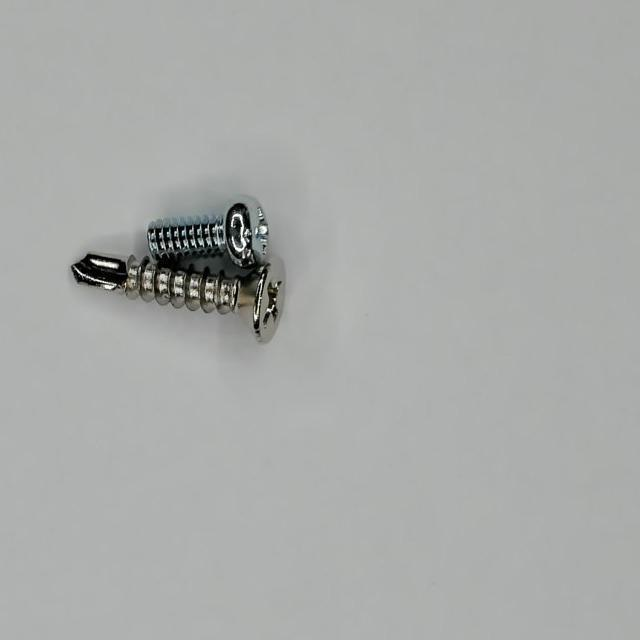Screw: (110, 257, 286, 343), (148, 196, 269, 270), (72, 254, 118, 288)
